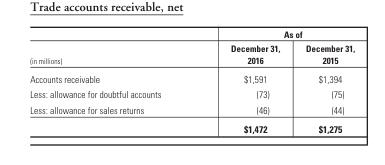table: (29, 28, 354, 134)
table column: (29, 28, 195, 134), (195, 28, 292, 134), (292, 28, 354, 134)
table column header: (29, 28, 354, 68)
table row: (29, 41, 354, 68), (29, 68, 354, 86), (29, 101, 354, 118), (29, 118, 354, 134), (29, 86, 354, 101), (29, 28, 354, 41)
table spanning cell: (29, 28, 195, 68), (195, 28, 354, 41)
